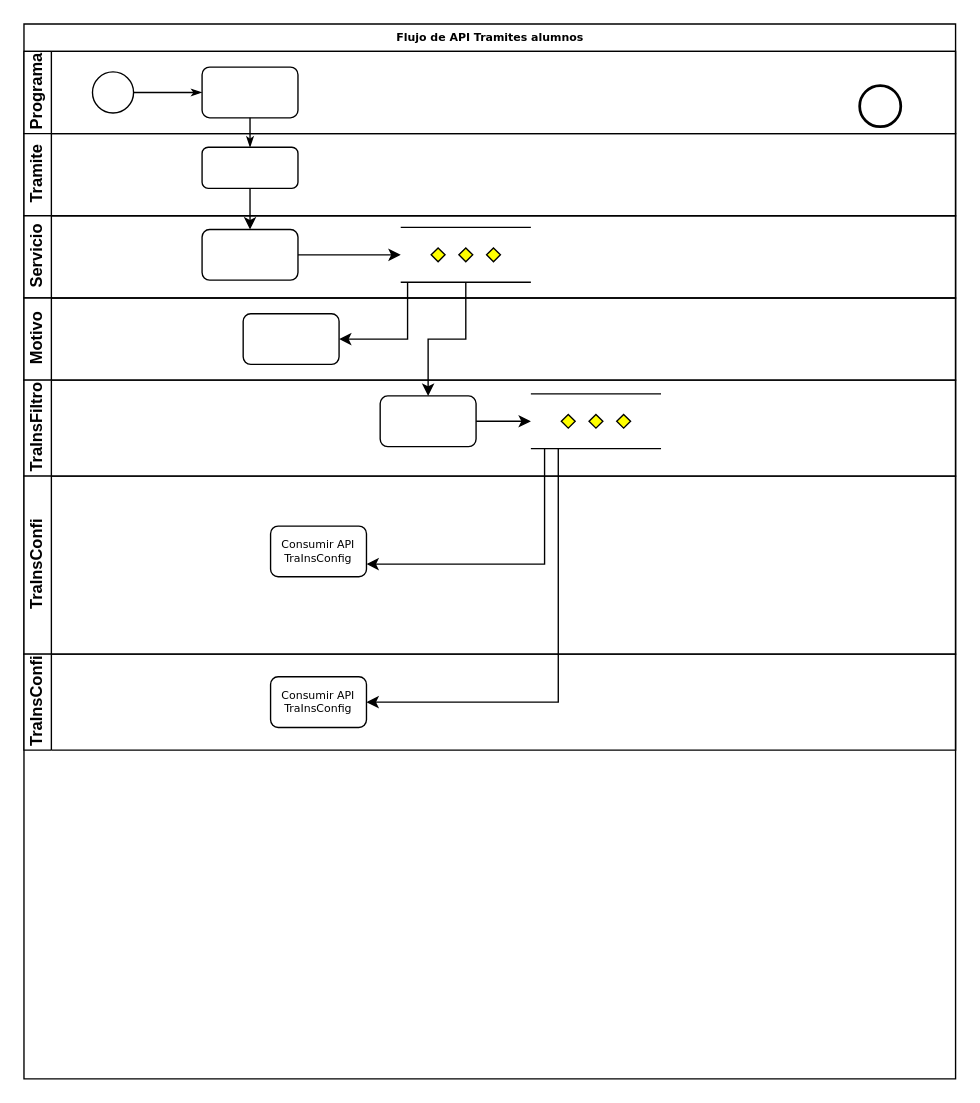
Image size: 980x1103. Some labels were removed from this diagram. Here are the shapes that lost their labels. From the top down, the centre of each, then its label:
the point at 249,92: Consumir API Programa
the point at 249,167: Consumir API Tramite
the point at 249,254: Consumir API Servicio
the point at 290,338: Consumir API Motivo
the point at 427,421: Consumir API TraInsFiltro
